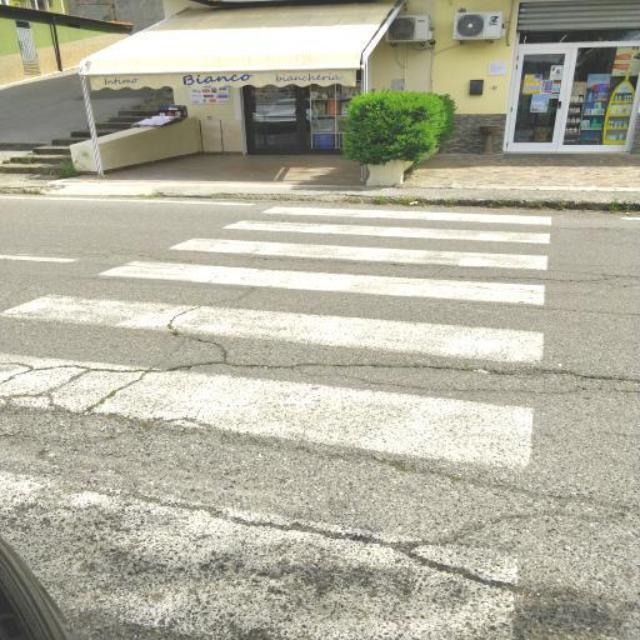sidewalk: (0, 192, 545, 640)
